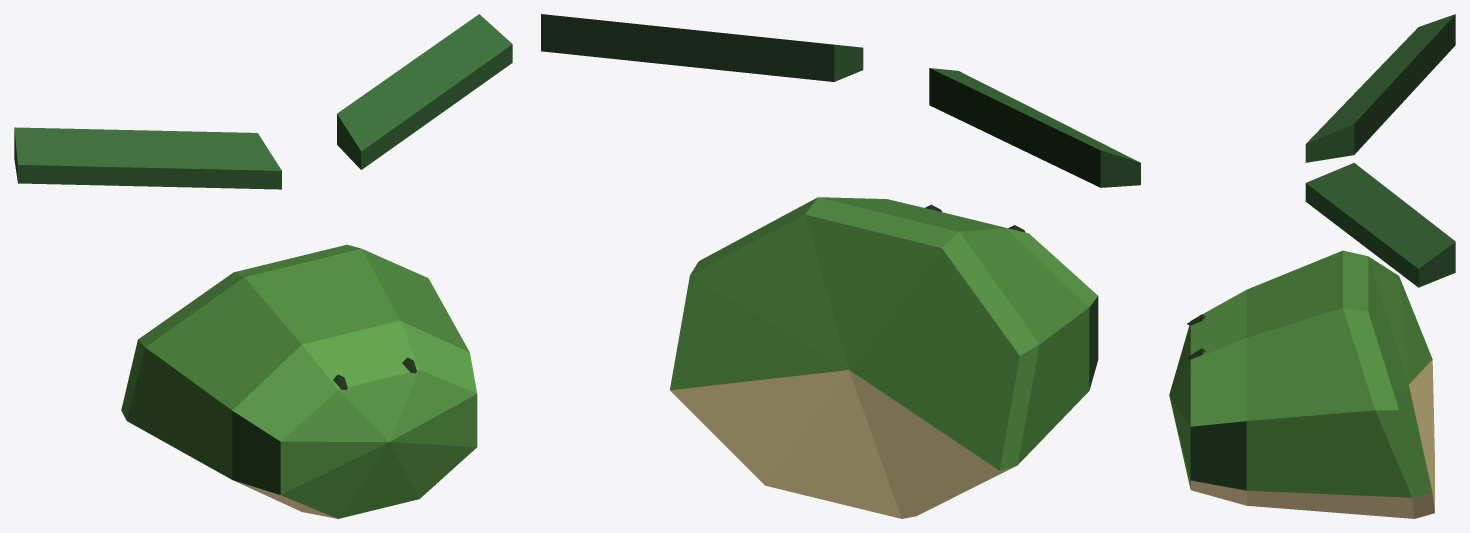
Rendered from snout_dragon_blunt.glb.
3 views of the same model, side by side, from view 1: azimuth 30°, elevation 25°; view 2: azimuth 150°, elevation 25°; view 3: azimuth 270°, elevation 25° (orthographic). The views are drawn at different scales.
Visible parts, largest first — view 1: Snout; view 2: Snout; view 3: Snout.
Boxes of the visible parts, x1,y1,x2,y2 form: Snout: [14, 14, 512, 518]; Snout: [541, 14, 1140, 518]; Snout: [1169, 14, 1455, 518].
Bounding box in the file's own units: 0.2 × 0.1397 × 0.1001.
Materials: 1 (1 with a texture image).
